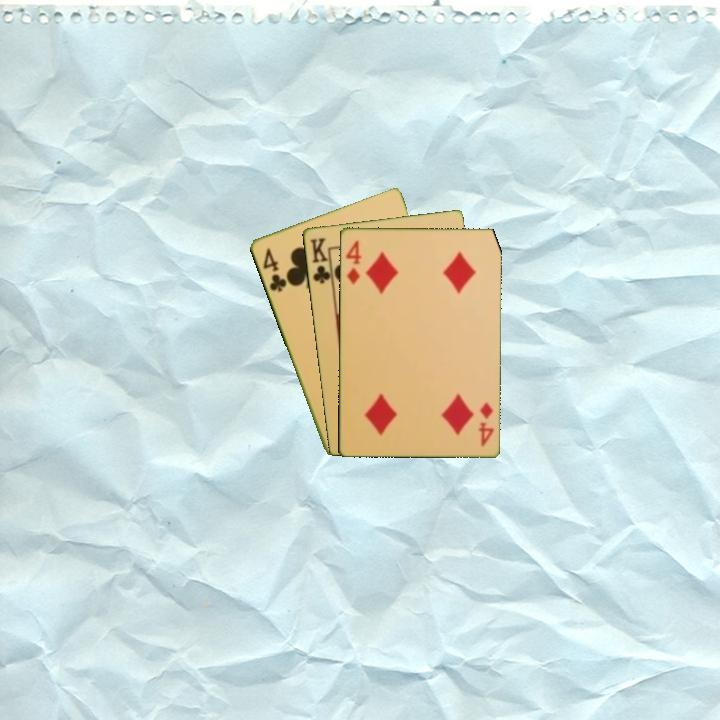4c: (259, 244, 289, 295)
4d: (474, 398, 496, 449), (342, 237, 364, 287)
Kc: (306, 234, 335, 288)
